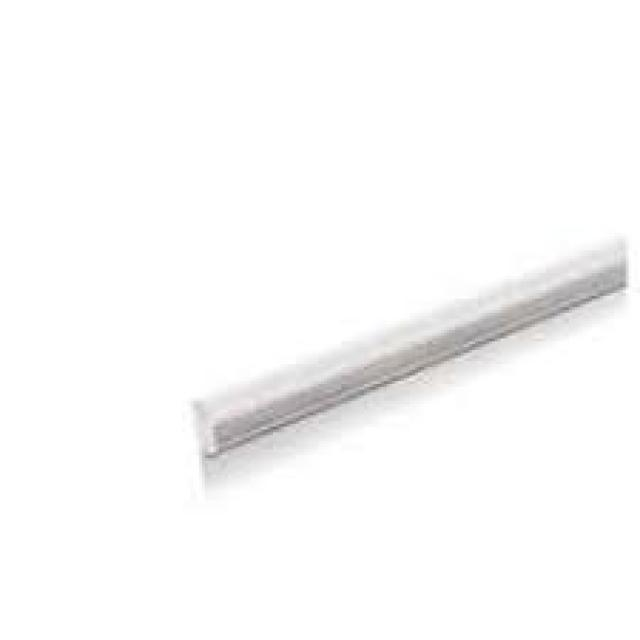tubelight_off: (184, 235, 640, 464)
